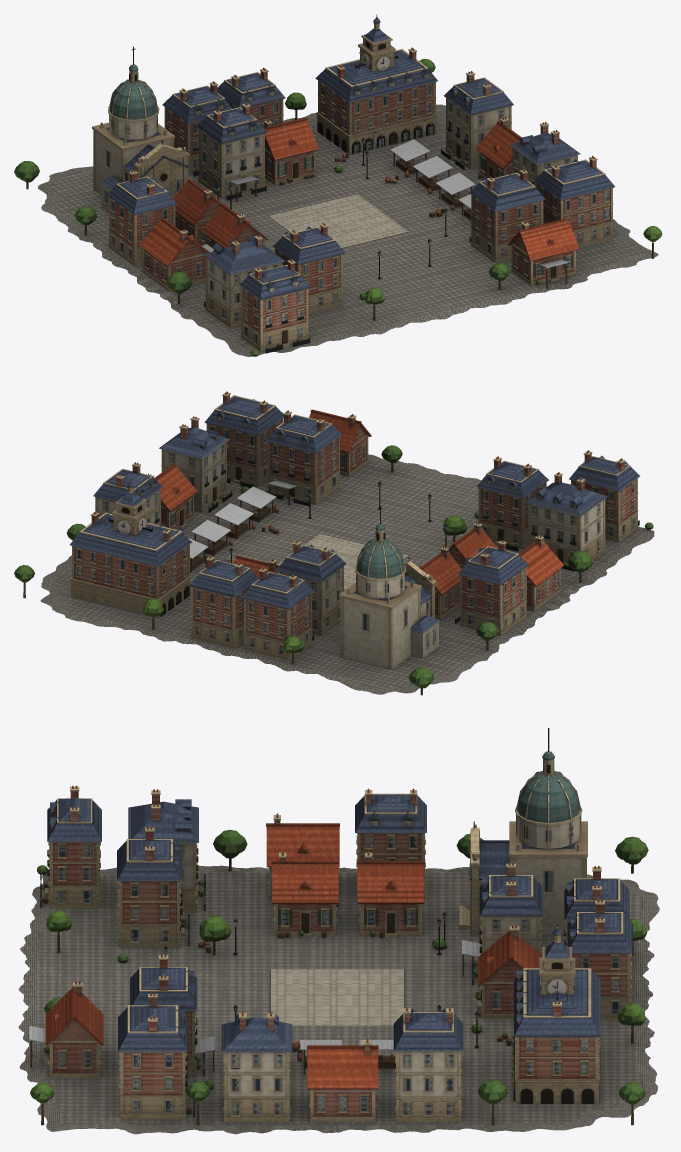
The model's file is gunpowder-town-medium-a-europe.glb.
3 renders of one model, top to bottom at view 1: azimuth 30°, elevation 25°; view 2: azimuth 150°, elevation 25°; view 3: azimuth 270°, elevation 25°, orthographic. The views are drawn at different scales.
Visible parts, largest first — view 1: LOD0; view 2: LOD0; view 3: LOD0.
Part boxes in pixels (x1,y1,x2,y2): LOD0: [14, 14, 662, 356]; LOD0: [14, 391, 654, 695]; LOD0: [18, 728, 659, 1134].
Size of what is drawn, in the model's own units: 6.03 by 2 by 6.09.
3 materials, 3 textured.
